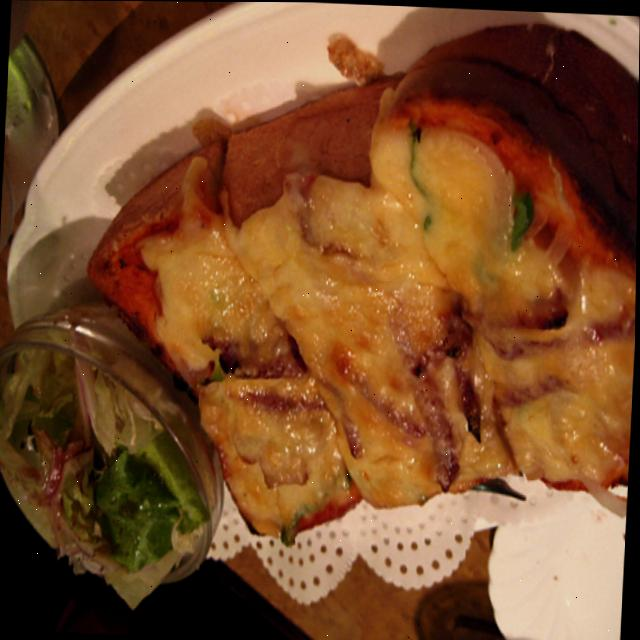面包点心: (79, 35, 640, 582)
